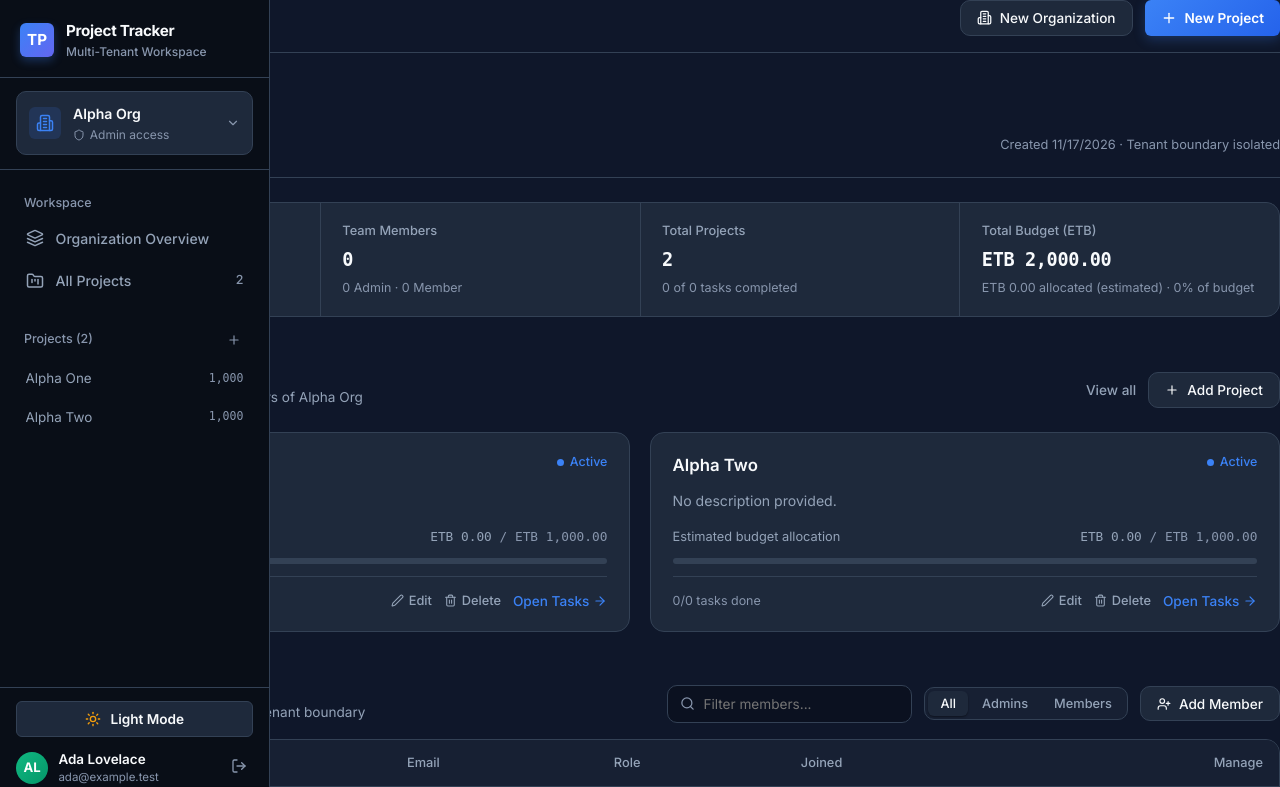
Test: Sidebar stays in sync with project changes made on the dashboard › creating a project increases the count and lists the new project
Check: the text "Total Projects" is shown, box [662, 223, 745, 238]
Click the button "New Project" at point(1212, 18), box [1144, 0, 1279, 36]
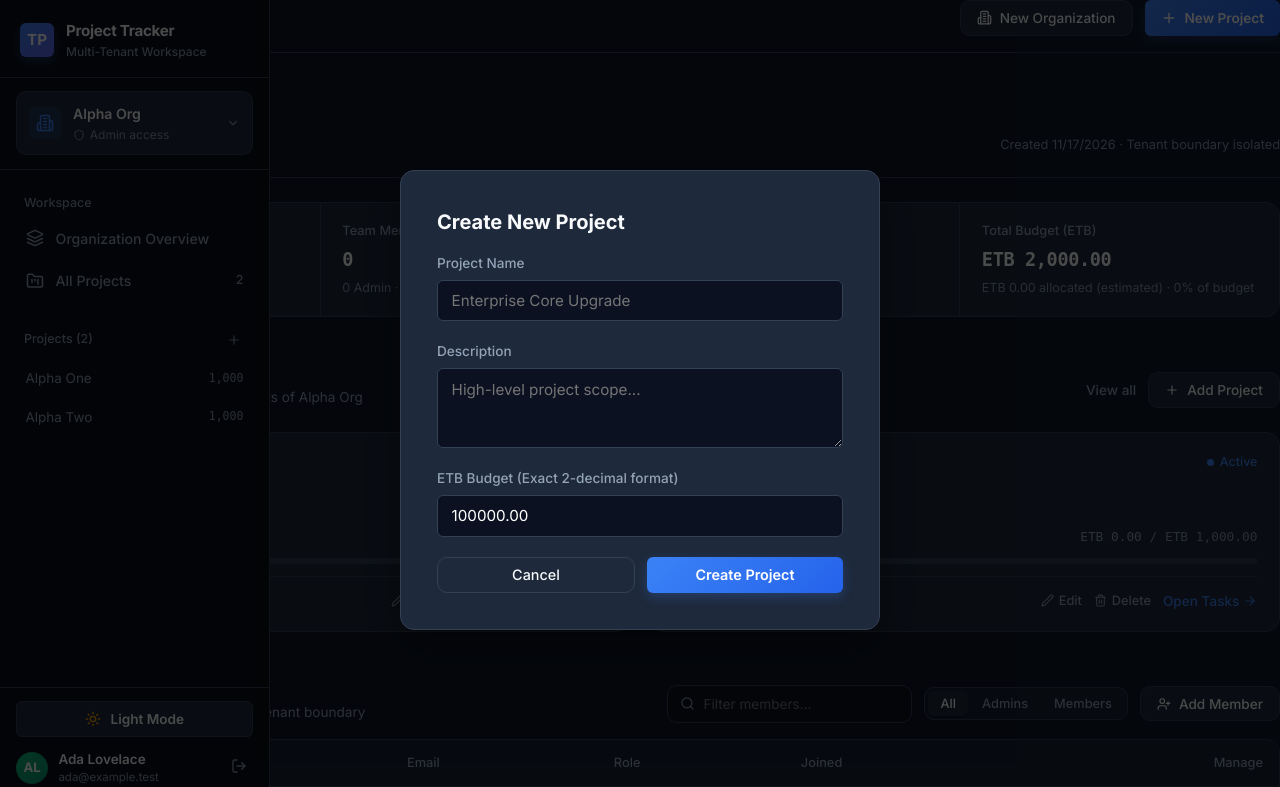
Type "Gamma Launch" into the field with placeholder "Enterprise Core Upgrade" at point(640, 300), box [437, 280, 843, 321]
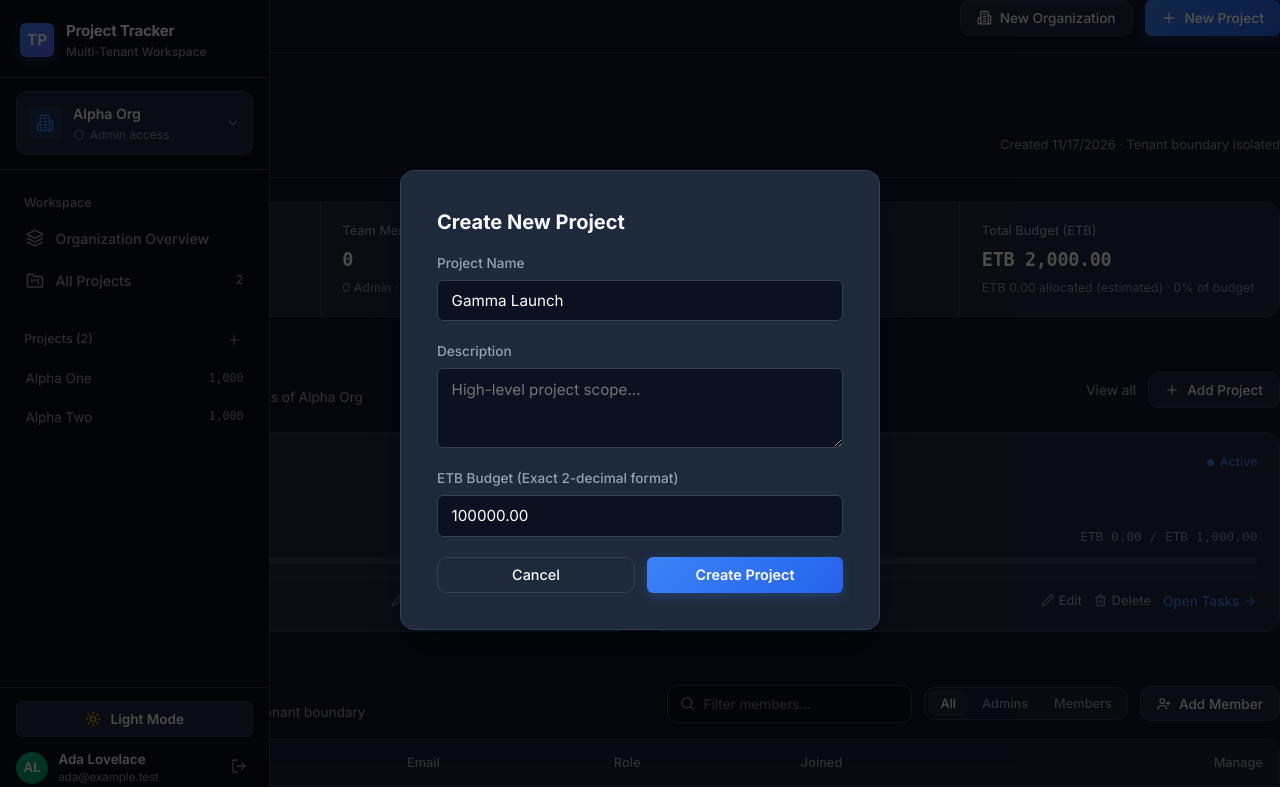
Click the button "Create Project" at point(745, 575), box [647, 556, 843, 593]
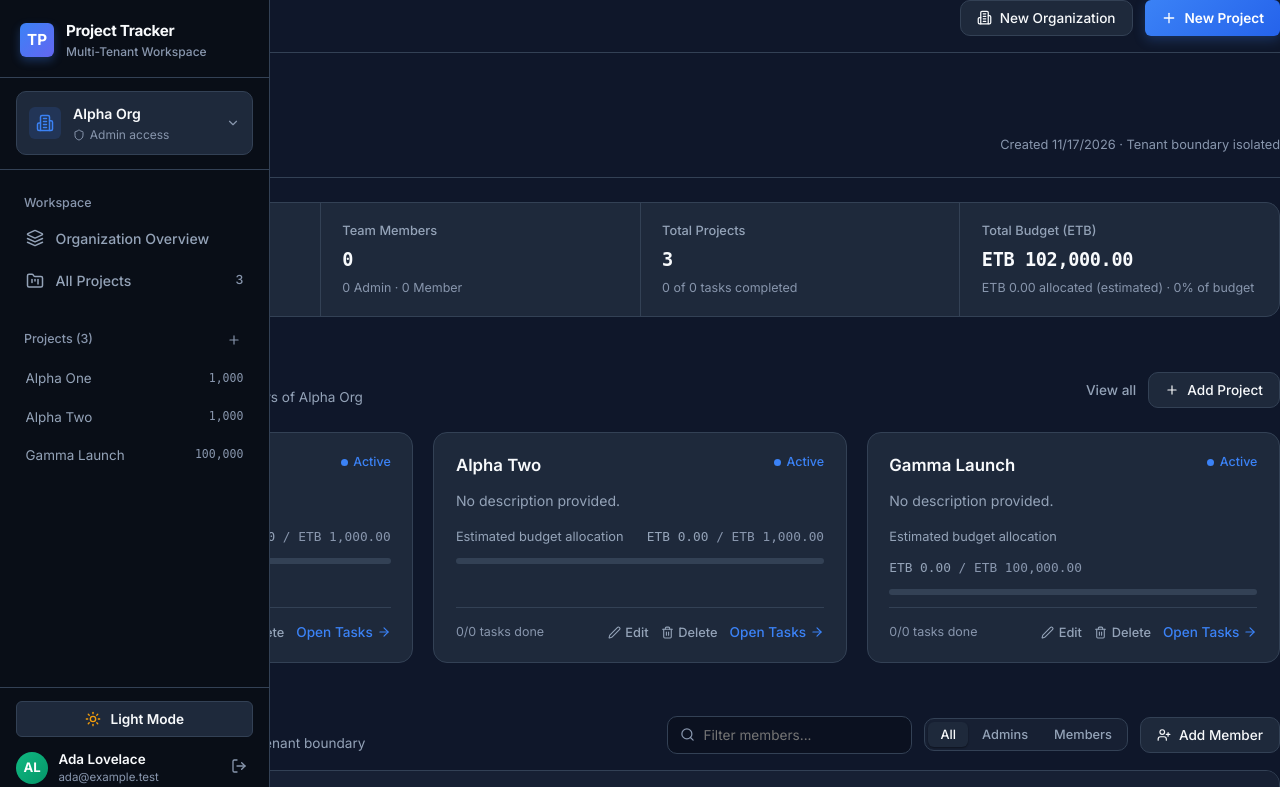
Check: the text "Projects (3)" is shown, box [24, 330, 93, 349]
Check: the text "3" below "Total Projects" is shown, box [662, 249, 673, 270]
